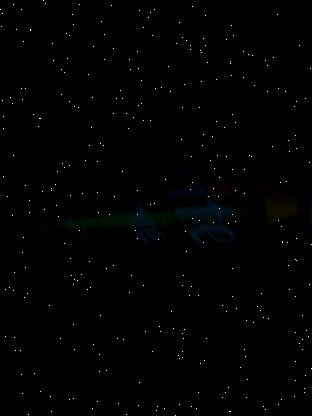Can: (30, 150, 306, 274)
